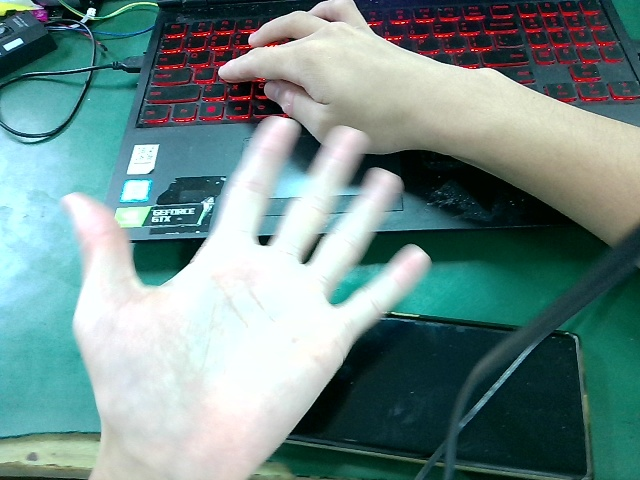paper: (52, 111, 442, 480)
